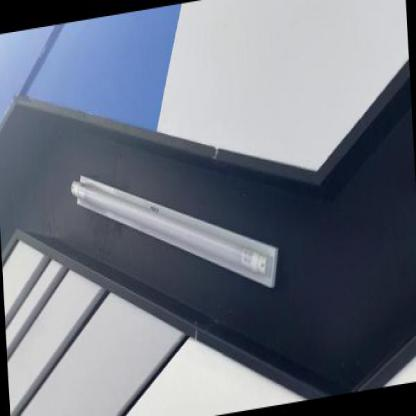light_off: (62, 122, 289, 334)
